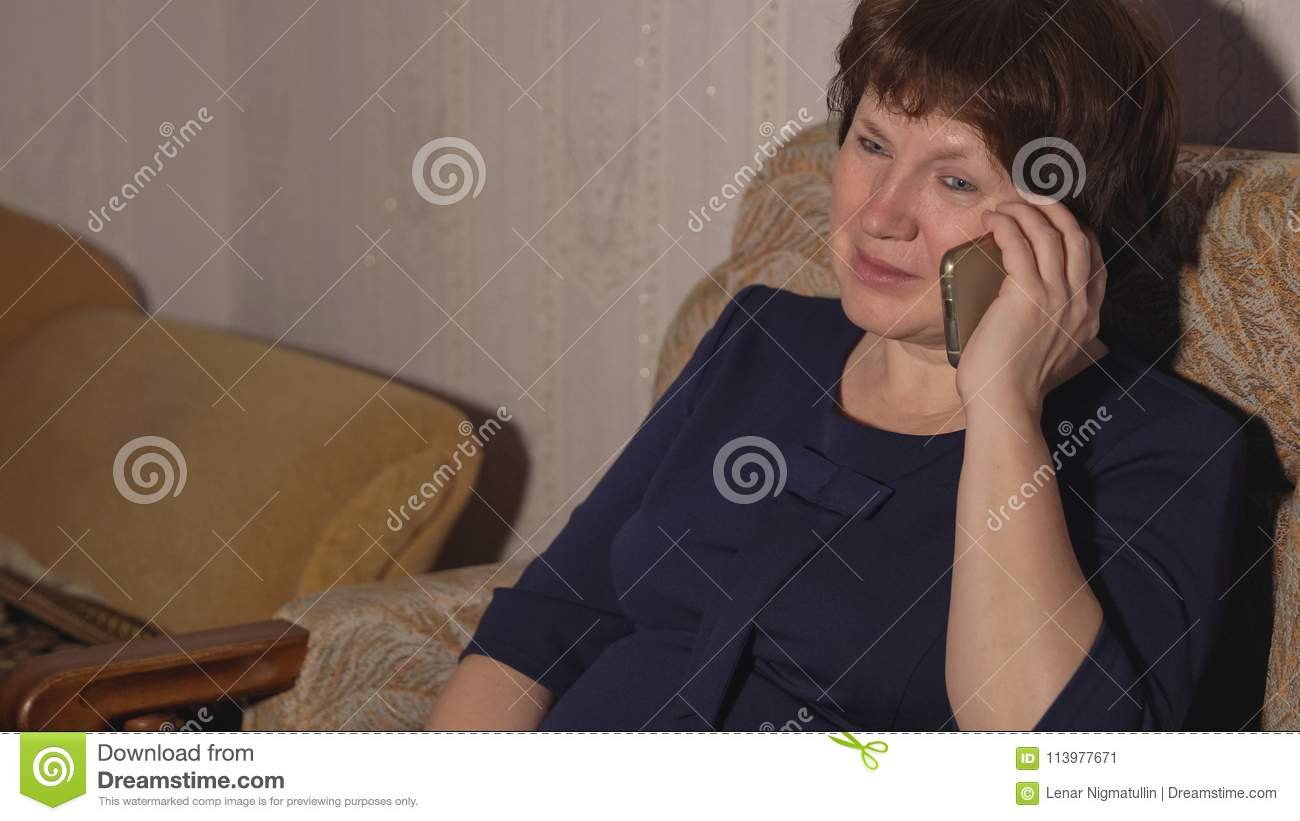talk: (826, 117, 1112, 427)
